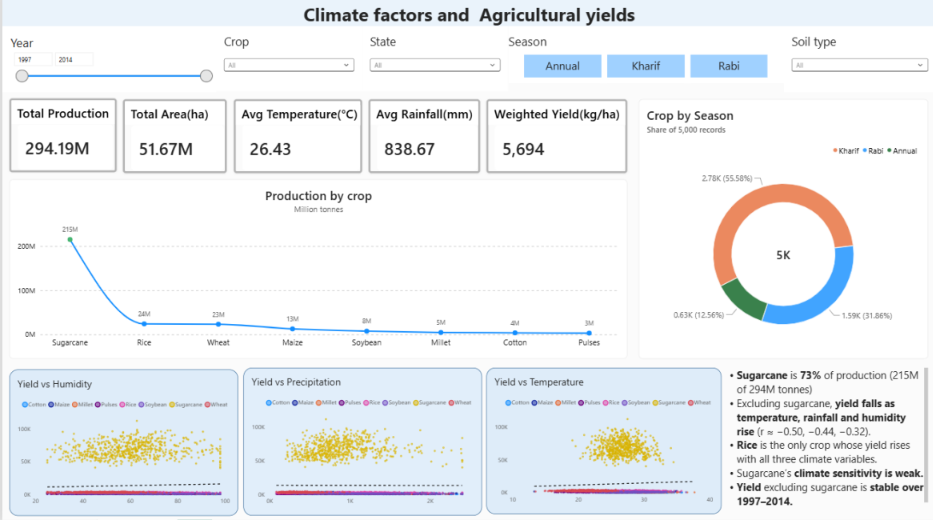

The page's visual inventory and layout, read from the dashboard file:
{"tool":"powerbi","page":{"name":"Page 1","canvas":[1920,1080],"ordinal":0},"visuals":[{"type":"textbox","box":[0,0,1920,66],"z":0},{"type":"lineChart","title":"Production by crop","fields":{"Category":["climate_factors_agricultural_yi.Crop"],"Y":["Sum(climate_factors_agricultural_yi.Production)"]},"box":[14.5,380,1270.4,369.2],"z":5001},{"type":"advancedSlicerVisual","fields":{"Values":["climate_factors_agricultural_yi.Season"]},"box":[1040.6,65.1,566.4,117.6],"z":5002},{"type":"listSlicer","title":"State","fields":{"Values":["climate_factors_agricultural_yi.State_Name"]},"box":[740,66,300,134],"z":5004},{"type":"listSlicer","title":"Crop","fields":{"Values":["climate_factors_agricultural_yi.Crop"]},"box":[440,66,300,134],"z":5005},{"type":"listSlicer","title":"Soil type","fields":{"Values":["climate_factors_agricultural_yi.Soil_Type"]},"box":[1607,65.1,313.1,135.7],"z":5006},{"type":"slicer","title":"Year","fields":{"Values":["climate_factors_agricultural_yi.Crop_Year"]},"box":[0,65.1,439.7,135.7],"z":5007},{"type":"cardVisual","title":"Total Production","fields":{"Data":["Sum(climate_factors_agricultural_yi.Production)"]},"box":[14.5,213.5,229.8,152],"z":5008},{"type":"cardVisual","title":"Total Area(ha)","fields":{"Data":["Sum(climate_factors_agricultural_yi.Area (ha))"]},"box":[264.2,213.5,233.4,152],"z":5009},{"type":"cardVisual","title":"Avg Temperature(°C)","fields":{"Data":["Avg(climate_factors_agricultural_yi.Temperature (Â°C))"]},"box":[515.8,215.3,264.2,152],"z":5010},{"type":"cardVisual","title":"Avg Rainfall(mm)","fields":{"Data":["Avg(climate_factors_agricultural_yi.Precipitation (mm))"]},"box":[800,214,240,152],"z":5011},{"type":"cardVisual","title":"Yield(kg/ha)","fields":{"Data":["Sum(climate_factors_agricultural_yi.Yield (kg/ha))"]},"box":[1060.5,215.3,231.6,152],"z":5012},{"type":"scatterChart","title":"Yield vs Humidity","fields":{"X":["climate_factors_agricultural_yi.Humidity (%)"],"Y":["climate_factors_agricultural_yi.Yield (kg/ha)"]},"box":[655.1,770.9,405.4,300.4],"z":5015},{"type":"scatterChart","title":"Yield vs Precipitation ","fields":{"X":["climate_factors_agricultural_yi.Precipitation (mm)"],"Y":["climate_factors_agricultural_yi.Yield (kg/ha)"]},"box":[1084,770.9,401.7,304],"z":5016},{"type":"scatterChart","title":"Yield vs Temperature ","fields":{"X":["climate_factors_agricultural_yi.Temperature (Â°C)"],"Y":["climate_factors_agricultural_yi.Yield (kg/ha)"]},"box":[1505.6,770.9,398.1,300.4],"z":5017},{"type":"donutChart","title":"Crop by Season","fields":{"Category":["climate_factors_agricultural_yi.Season"],"Y":["CountNonNull(climate_factors_agricultural_yi.Crop)"]},"box":[1308.4,215.3,595.4,533.8],"z":5019},{"type":"textbox","box":[0,767.3,635.2,313.1],"z":5020}]}

Visuals, with their boxes in screenshot pixels (x1, y1, x2, y2), scaled from the page's 1920x1080 canvas onto the 933x520 screenshot:
textbox: pyautogui.locateOnScreen(0, 0, 932, 32)
"Production by crop" lineChart: pyautogui.locateOnScreen(7, 183, 624, 361)
advancedSlicerVisual - climate_factors_agricultural_yi.Season: pyautogui.locateOnScreen(506, 31, 781, 88)
"State" listSlicer: pyautogui.locateOnScreen(360, 32, 505, 96)
"Crop" listSlicer: pyautogui.locateOnScreen(214, 32, 360, 96)
"Soil type" listSlicer: pyautogui.locateOnScreen(781, 31, 932, 97)
"Year" slicer: pyautogui.locateOnScreen(0, 31, 214, 97)
"Total Production" cardVisual: pyautogui.locateOnScreen(7, 103, 119, 176)
"Total Area(ha)" cardVisual: pyautogui.locateOnScreen(128, 103, 242, 176)
"Avg Temperature(°C)" cardVisual: pyautogui.locateOnScreen(251, 104, 379, 177)
"Avg Rainfall(mm)" cardVisual: pyautogui.locateOnScreen(389, 103, 505, 176)
"Yield(kg/ha)" cardVisual: pyautogui.locateOnScreen(515, 104, 628, 177)
"Yield vs Humidity" scatterChart: pyautogui.locateOnScreen(318, 371, 515, 516)
"Yield vs Precipitation " scatterChart: pyautogui.locateOnScreen(527, 371, 722, 518)
"Yield vs Temperature " scatterChart: pyautogui.locateOnScreen(732, 371, 925, 516)
"Crop by Season" donutChart: pyautogui.locateOnScreen(636, 104, 925, 361)
textbox: pyautogui.locateOnScreen(0, 369, 309, 519)
